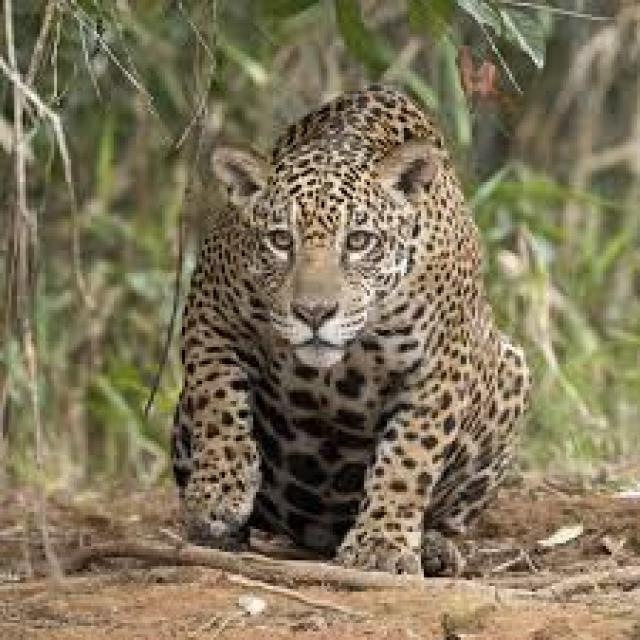Jaguar: (170, 85, 534, 583)
